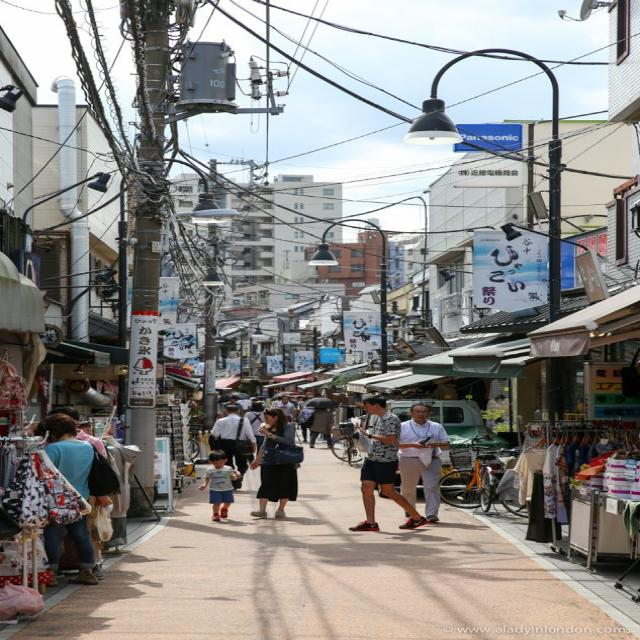body: (30, 413, 121, 586), (347, 394, 431, 532), (395, 402, 453, 523), (249, 407, 304, 519), (207, 404, 257, 490), (46, 406, 110, 460), (196, 451, 240, 524), (243, 402, 268, 466), (306, 406, 336, 449), (293, 392, 347, 406), (298, 403, 316, 442), (272, 396, 297, 423), (244, 392, 275, 412), (186, 396, 223, 412), (278, 393, 297, 422), (234, 395, 252, 413), (223, 396, 244, 410)
